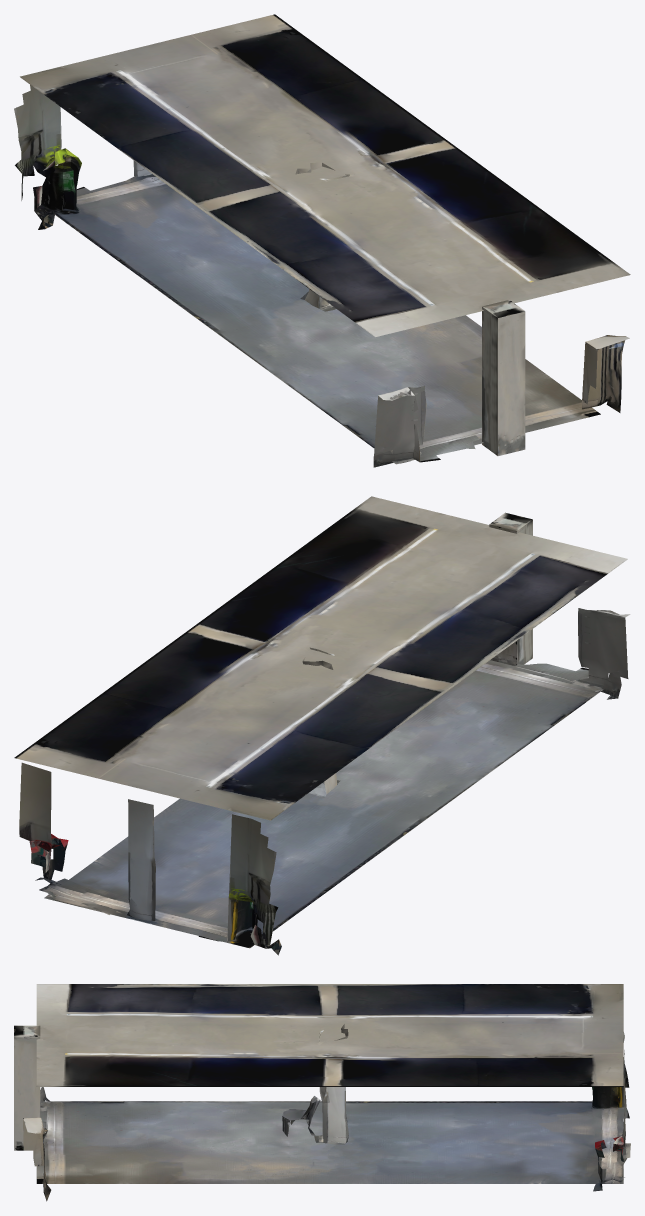
The model's file is Bridge_to_atrium-IM.fbx.
3 renders of one model, top to bottom at view 1: azimuth 30°, elevation 25°; view 2: azimuth 150°, elevation 25°; view 3: azimuth 270°, elevation 25°, orthographic. The views are drawn at different scales.
Visible parts, largest first — view 1: Bridge_to_atrium-IM; view 2: Bridge_to_atrium-IM; view 3: Bridge_to_atrium-IM.
Boxes of the visible parts, x1,y1,x2,y2 form: Bridge_to_atrium-IM: (14, 14, 630, 467); Bridge_to_atrium-IM: (14, 496, 630, 955); Bridge_to_atrium-IM: (14, 984, 630, 1201).
Bounding box in the file's own units: 428 × 236 × 1060.
1 material, 1 textured.
